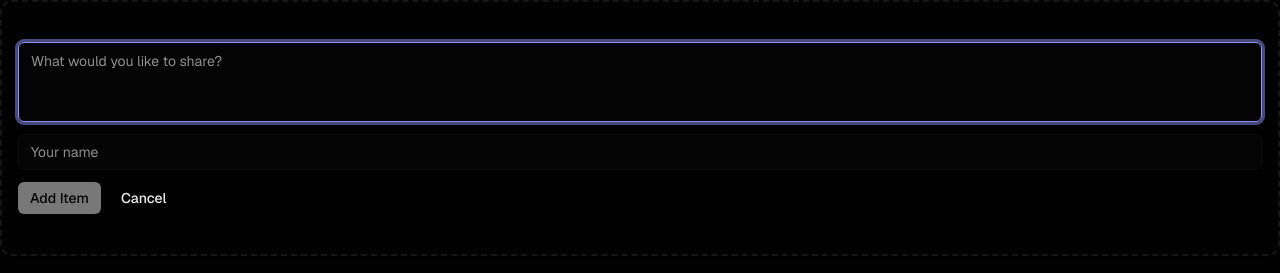
Test case: AddItemForm › Active state › enables submit button when both fields have content
Type "Test feedback" into the text box with placeholder "What would you like to share?".
click(640, 82); type("Test feedback")  # box [18,42,1262,122]
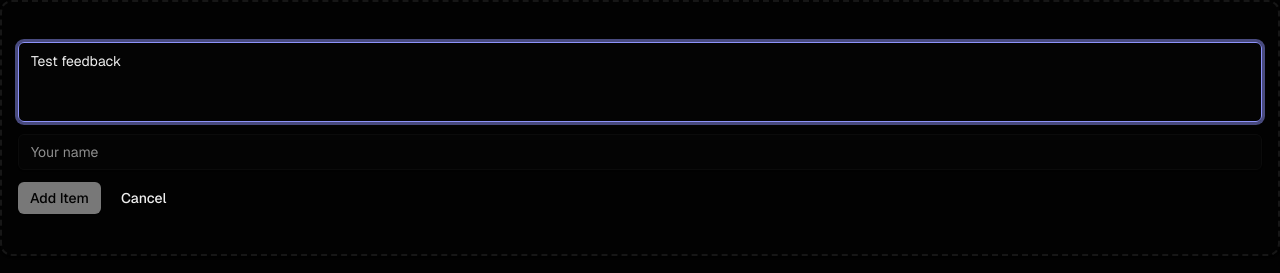
Type "John Doe" into the field with placeholder "Your name".
click(640, 152); type("John Doe")  # box [18,134,1262,170]
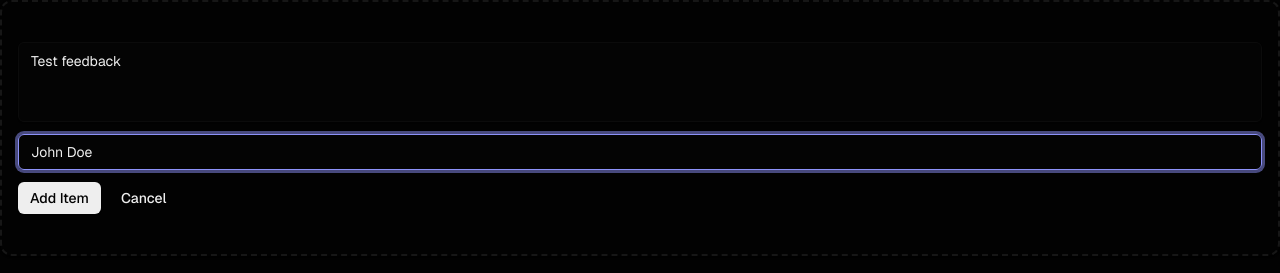
Expected: the button "Add Item" is enabled, [18,182,101,214]
